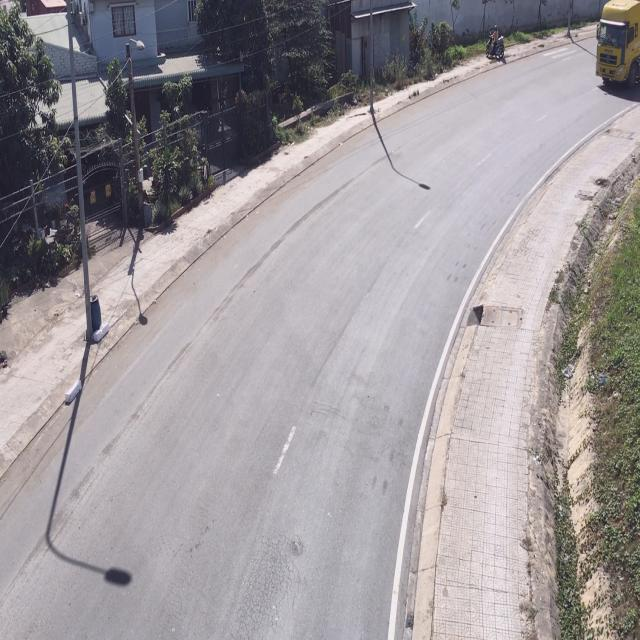motorbike: (485, 24, 506, 63)
truck: (597, 1, 640, 93)
